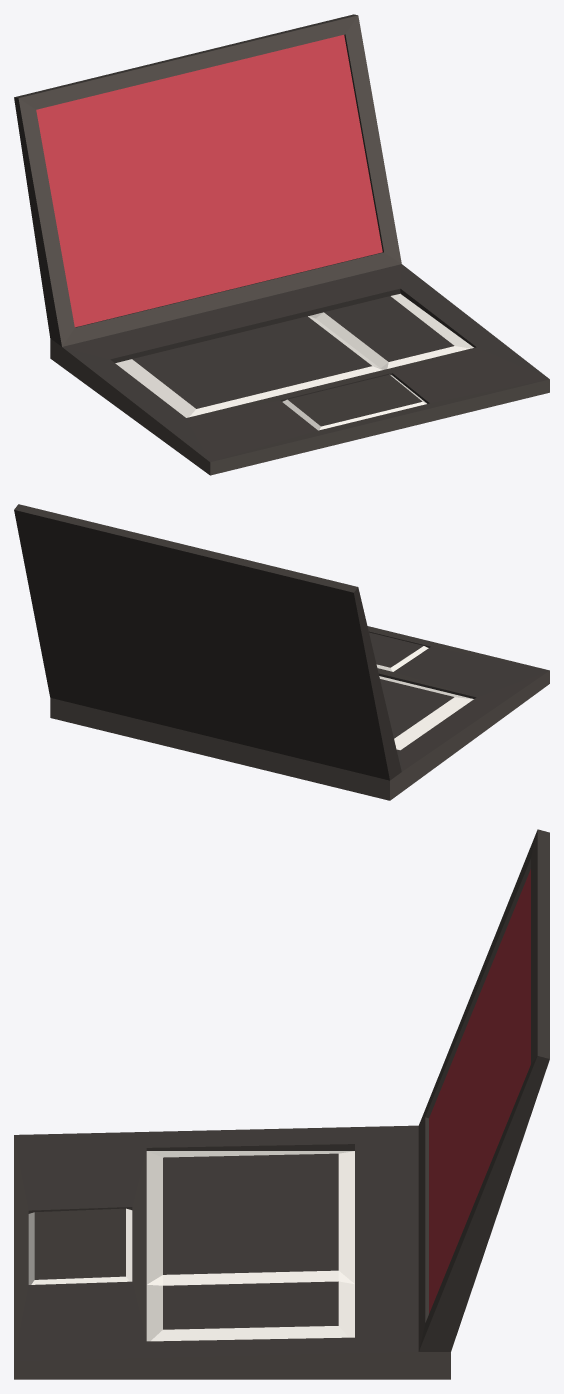
The model's file is laptop.fbx.
3 renders of one model, top to bottom at view 1: azimuth 30°, elevation 25°; view 2: azimuth 150°, elevation 25°; view 3: azimuth 270°, elevation 25°, orthographic. The views are drawn at different scales.
Visible parts, largest first — view 1: Cube; view 2: Cube; view 3: Cube.
Part boxes in pixels (x1,y1,x2,y2): Cube: (14,14,549,475); Cube: (14,504,549,800); Cube: (14,829,549,1379).
Bounding box in the file's own units: 0.6 × 0.4 × 0.6.
